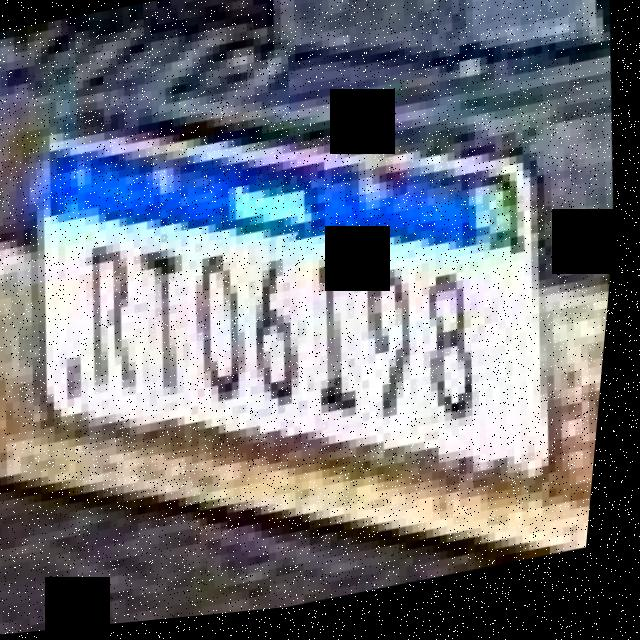6: (240, 239, 324, 433)
9: (413, 259, 504, 448), (358, 252, 440, 456)
I: (305, 251, 383, 444)
R: (62, 223, 156, 412)
T: (186, 237, 264, 434), (133, 232, 210, 420)
